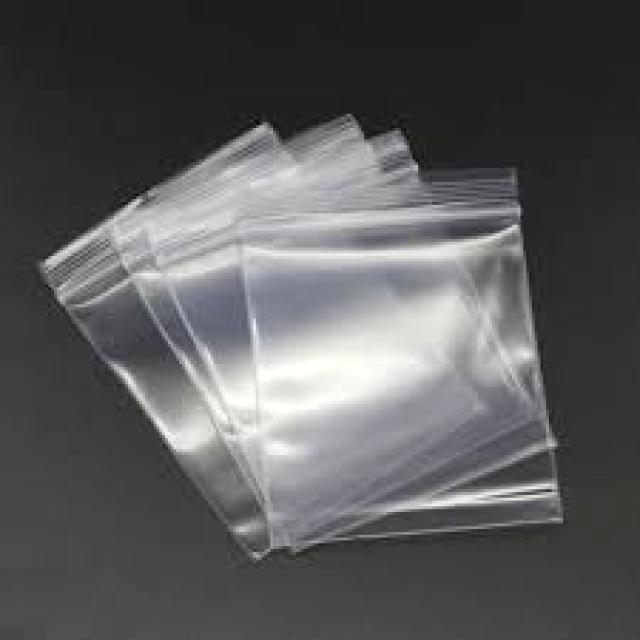Single-layer Plastic: (106, 88, 556, 580), (37, 104, 487, 575), (232, 154, 564, 558)
